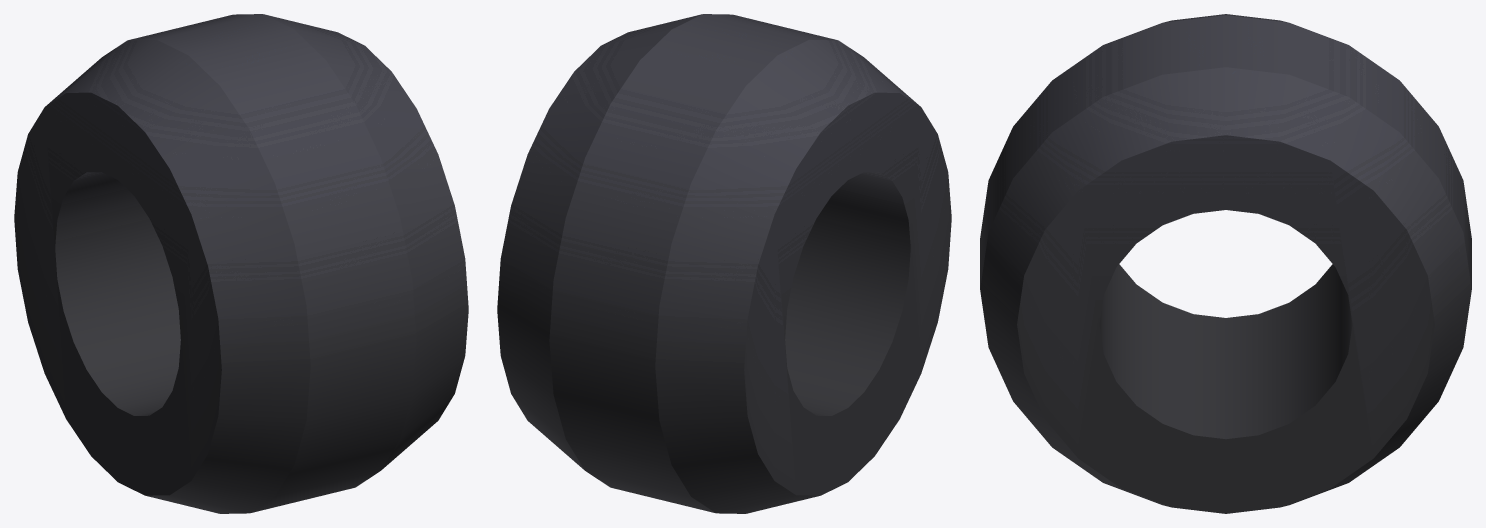
File: debris-tire.glb
The picture shows the model from 3 angles, left to right: view 1: azimuth 30°, elevation 25°; view 2: azimuth 150°, elevation 25°; view 3: azimuth 270°, elevation 25°; orthographic projection.
Parts seen in each view (by area): view 1: debris-tire; view 2: debris-tire; view 3: debris-tire.
Part boxes in pixels (<box>): debris-tire: <box>14,14,468,513</box>; debris-tire: <box>497,14,951,513</box>; debris-tire: <box>980,14,1471,513</box>.
Bounding box in the file's own units: 0.35 × 0.6 × 0.6.
Materials: 1 (1 with a texture image).
